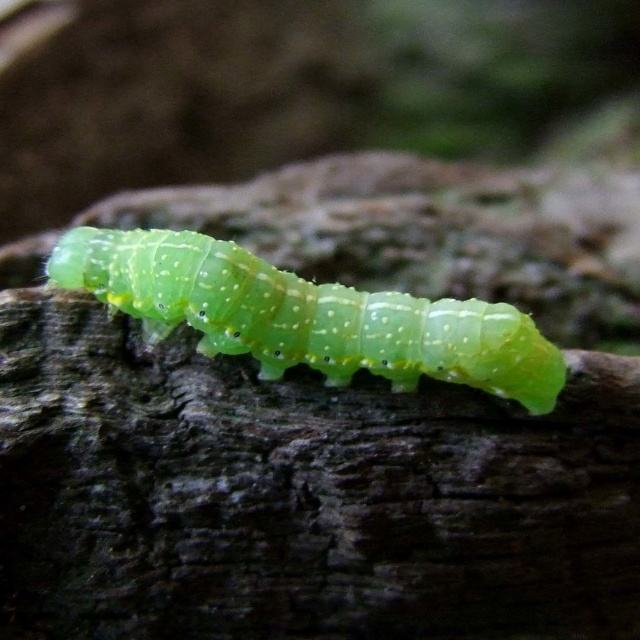Caterpillar: (40, 227, 567, 417)
